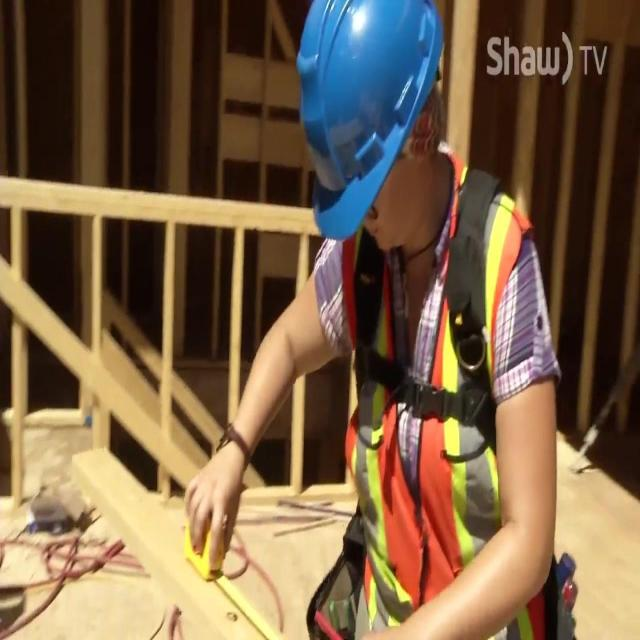Vest: (340, 146, 546, 637)
